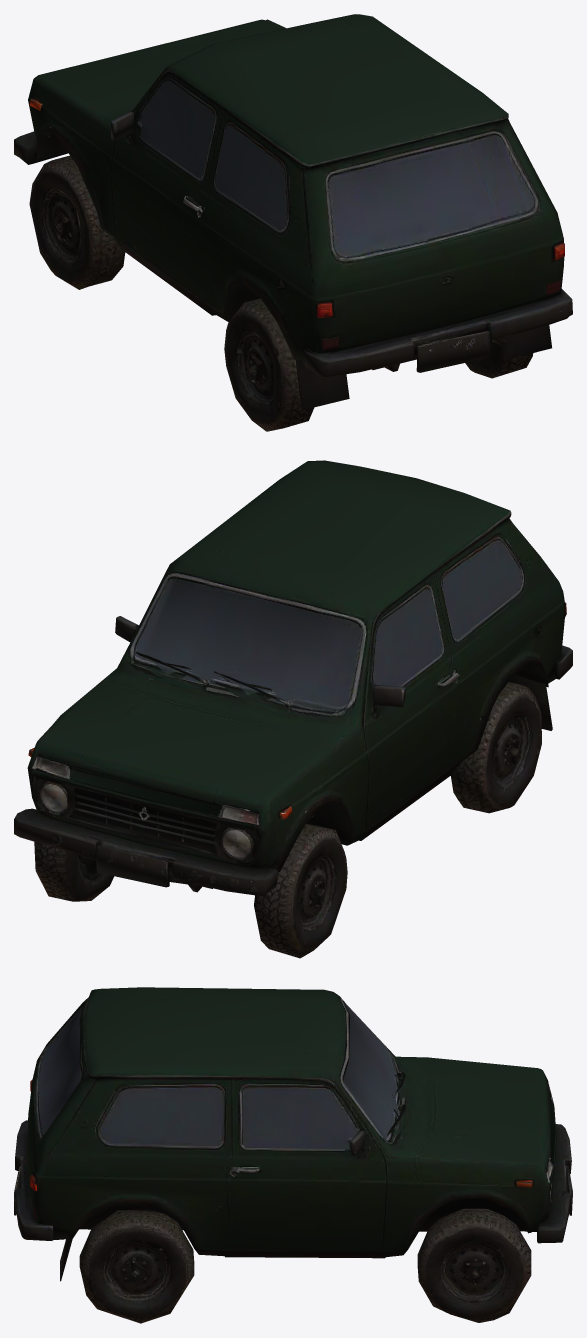
Rendered from suv.glb.
3 renders of one model, top to bottom at view 1: azimuth 30°, elevation 25°; view 2: azimuth 150°, elevation 25°; view 3: azimuth 270°, elevation 25°, orthographic. The views are drawn at different scales.
Parts seen in each view (by area): view 1: suv; view 2: suv; view 3: suv.
Boxes of the visible parts, x1,y1,x2,y2 form: suv: [14, 14, 572, 431]; suv: [14, 460, 572, 958]; suv: [14, 987, 572, 1323].
Bounding box in the file's own units: 1.88 × 1.79 × 3.61.
Materials: 1 (1 with a texture image).
